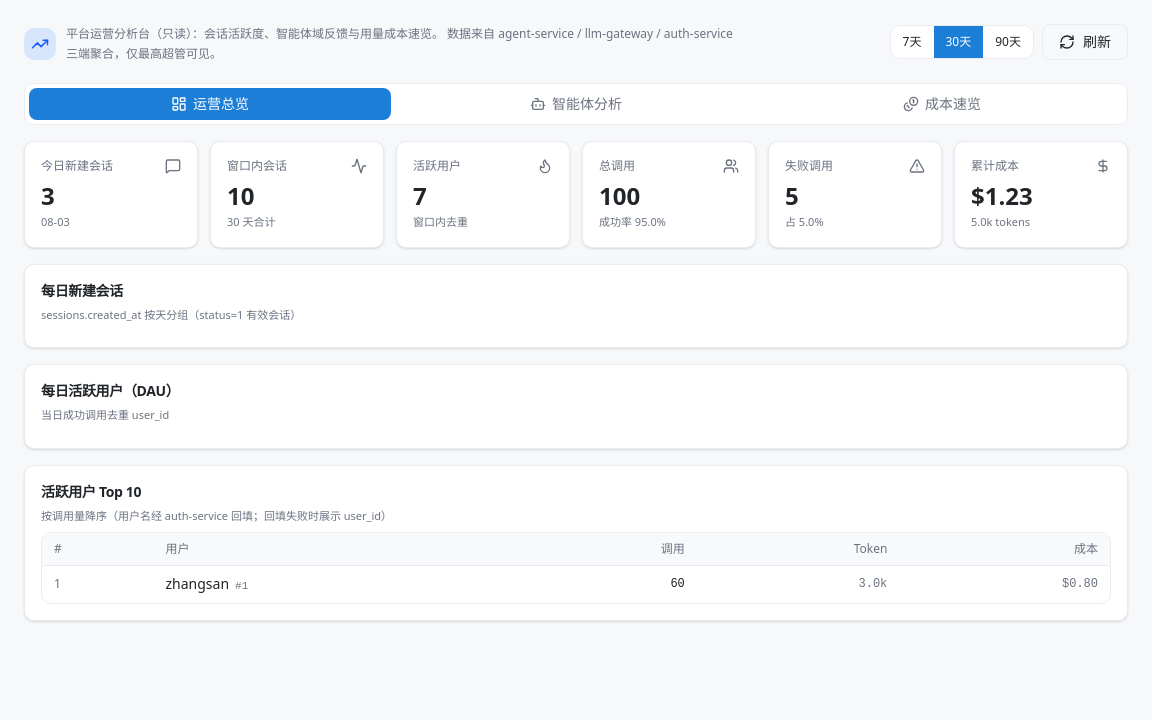
Test: DataPage 成本速览 › 切换 Tab 展示成本曲线与模型占比
The image size is (1152, 720).
Expected: the text "今日新建会话" is shown, [41,158,113,174]
Click the button "成本速览": (942, 104) [761,88,1123,120]
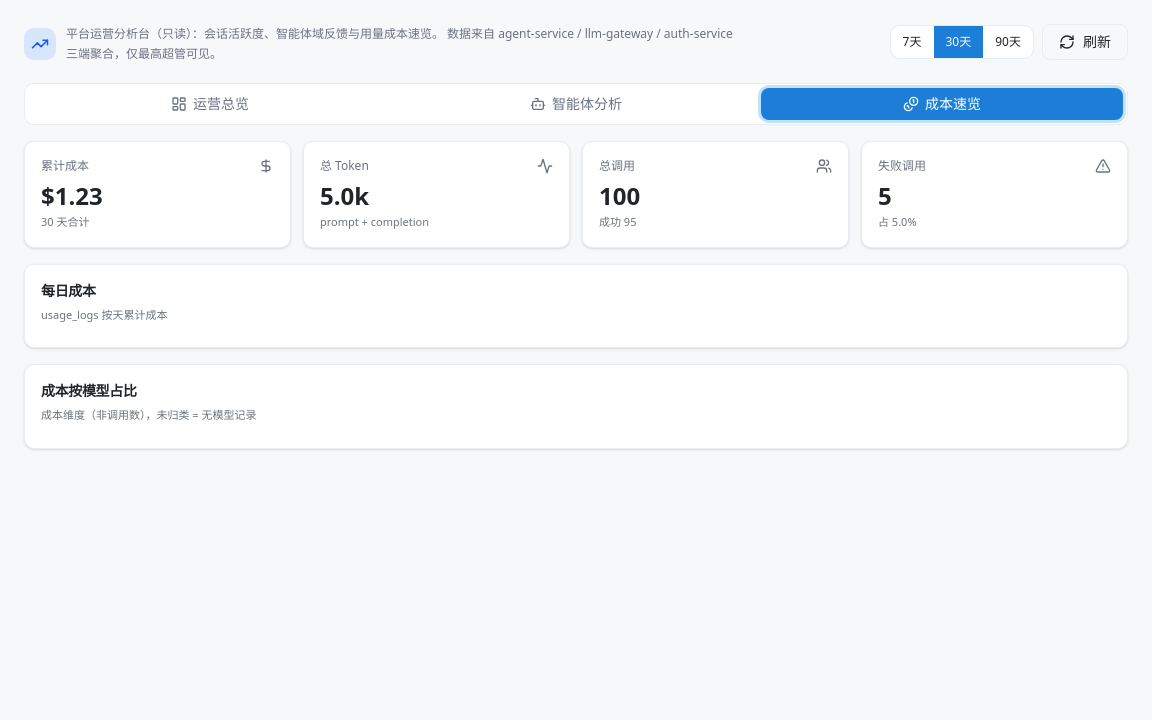
Expected: the text "$1.23" is shown, [41,179,103,212]
Expected: the text "每日成本" is shown, [41,280,96,300]
Expected: the text "成本按模型占比" is shown, [41,381,137,400]
